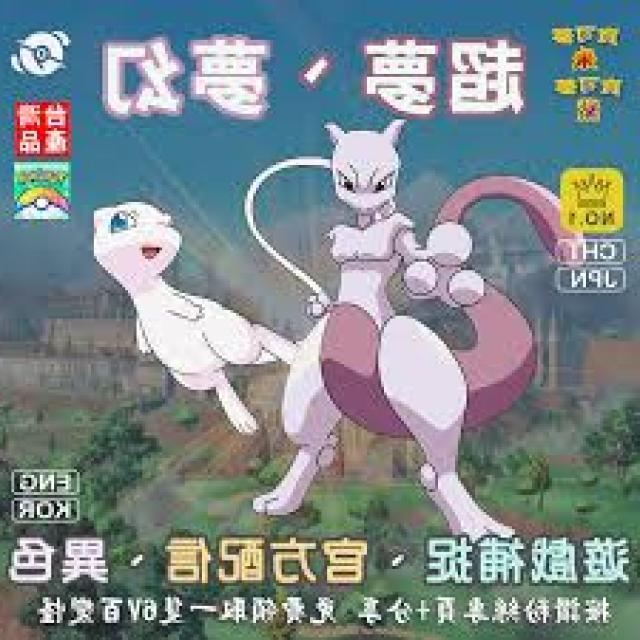Mew: (92, 198, 243, 377)
Mewtwo: (292, 126, 456, 448)
